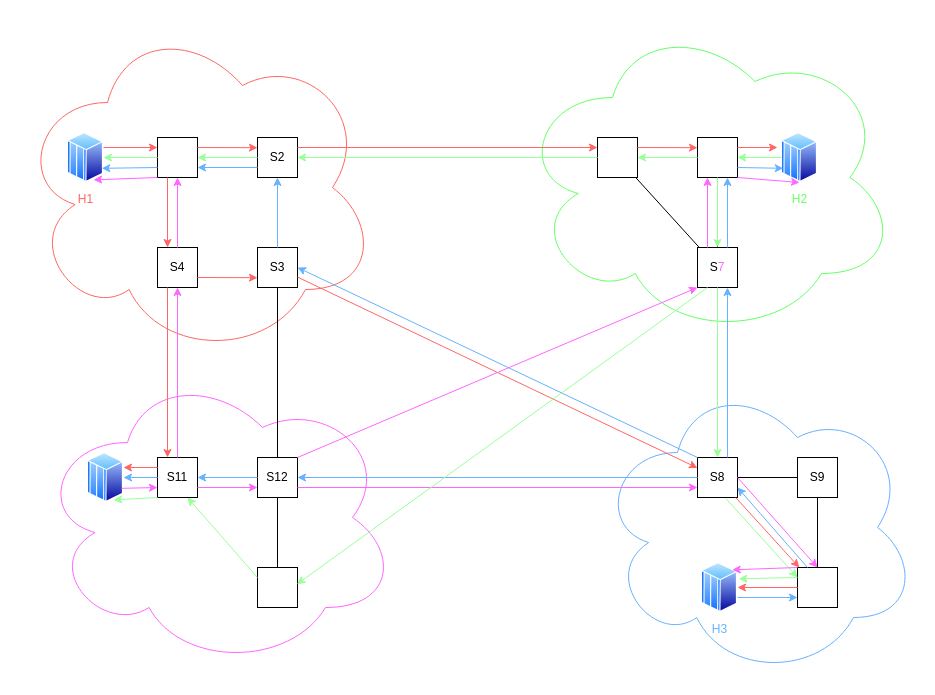
This 935x695 diagram has some shape labels left out. The centre of each missing label's shape, as x and y in pixels:
"H4" goes at (105,477).
"S1" goes at (177,157).
"S10" goes at (817,587).
"S13" goes at (277,587).
"S5" goes at (717,157).
"S6" goes at (617,157).
